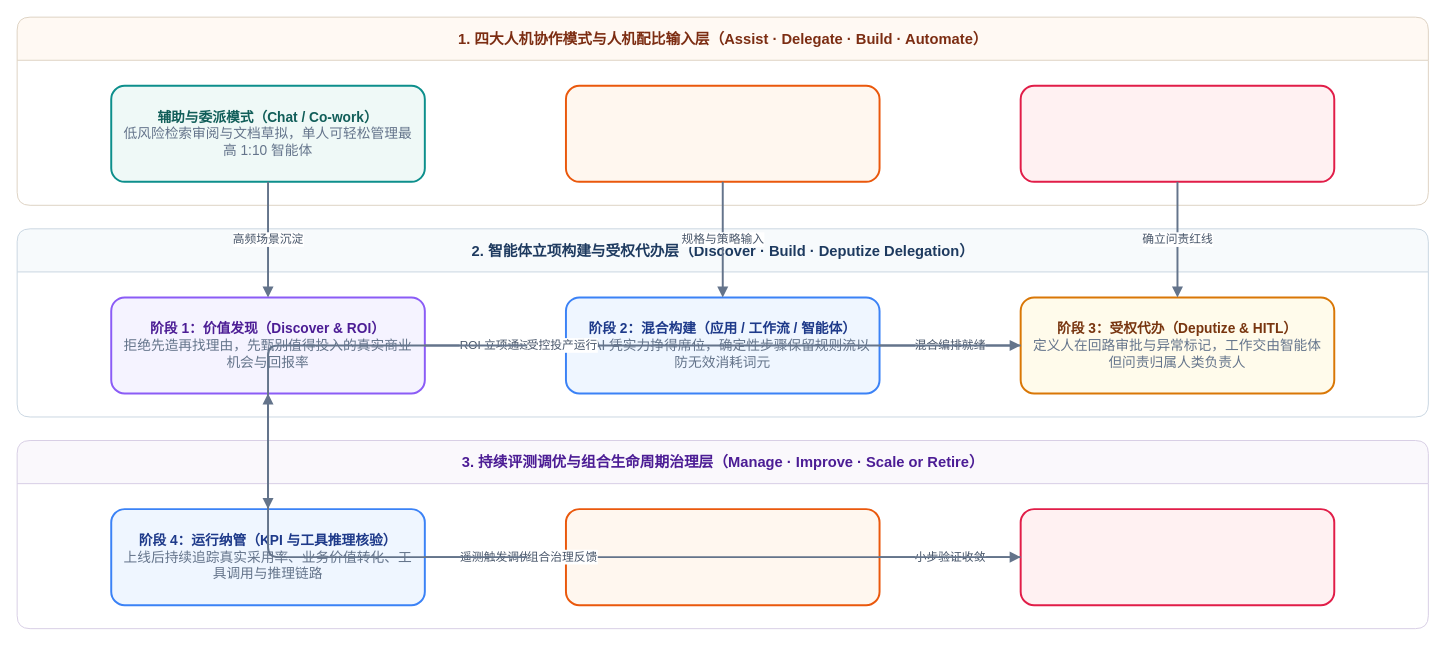
Image size: 1446x646. Some labels were removed from this diagram. Here are the shapes that lost their labels. From the top down, the centre of each, then its label:
At (x=722, y=133): "定制构建与自动巡航（Code / Auto） 针对独特流程编写规格或设定后台常驻策略，收敛至 1:5 深度督导".
At (x=1177, y=133): "智能体老板主驾席（判断力与系统思维） 以业务抱负、批判性判断力与问责边界统领跨负载智能体团队".
At (x=722, y=557): "阶段 5：评测迭代（Evals 与高性价比模型切换） 小步跑通评测集，按词元或额度效率替换模型并调低冗余定时调度频次".
At (x=1177, y=557): "阶段 6：扩缩与退役整合（A2A 协议协同） 由团队向部门与全企推广，下线低价值实例并用 A2A 协议合并重复智能体".
